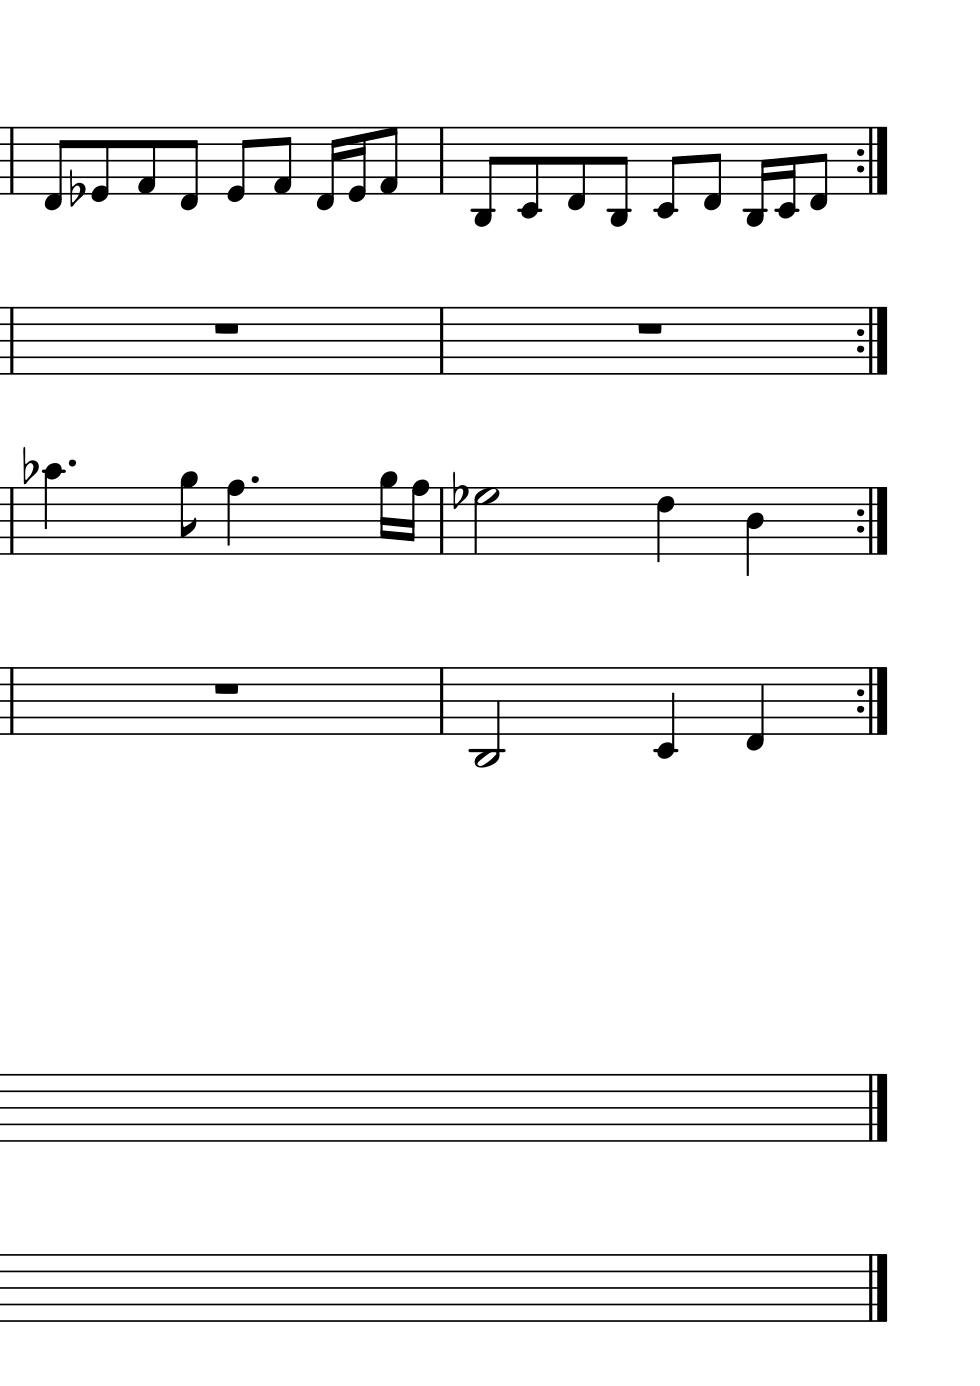16_-1: (313, 125, 342, 211)
16_-2: (772, 123, 797, 222)
16_-3: (743, 125, 771, 229)
16_0: (346, 125, 367, 203)
16_8: (402, 478, 428, 556)
16_9: (375, 470, 396, 557)
2_-3: (469, 666, 503, 771)
2_7: (472, 486, 500, 556)
4_-1: (743, 665, 767, 752)
4_-2: (653, 664, 679, 759)
4_10: (41, 462, 65, 557)
4_4: (743, 484, 766, 578)
4_6: (654, 486, 676, 567)
4_8: (224, 478, 245, 557)
8_-1: (41, 125, 70, 212), (177, 124, 202, 212), (807, 125, 830, 213), (701, 125, 723, 213), (564, 125, 587, 212)
8_-2: (652, 126, 683, 220), (517, 126, 542, 220)
8_-3: (469, 125, 501, 227), (605, 126, 631, 228)
8_0: (223, 125, 253, 204), (88, 124, 112, 204)
8_1: (133, 124, 158, 196), (270, 125, 293, 198), (377, 125, 399, 197)
8_9: (177, 470, 199, 557)
Final_barline: (863, 1074, 890, 1142), (863, 1253, 890, 1321)
Flat: (67, 168, 84, 210), (450, 470, 466, 511), (21, 444, 37, 485)
Rests1: (210, 679, 243, 697), (210, 319, 242, 337), (634, 319, 665, 337)
RightRepeatSign: (853, 126, 892, 197), (853, 306, 891, 376), (853, 486, 891, 555), (853, 666, 891, 735)
Single_barline: (432, 127, 450, 196), (433, 488, 450, 554), (3, 127, 19, 195), (3, 308, 19, 374), (3, 667, 19, 734), (434, 308, 449, 374), (434, 668, 449, 735), (4, 487, 19, 552), (633, 283, 642, 344)
dot: (65, 457, 78, 471), (248, 474, 260, 486)
